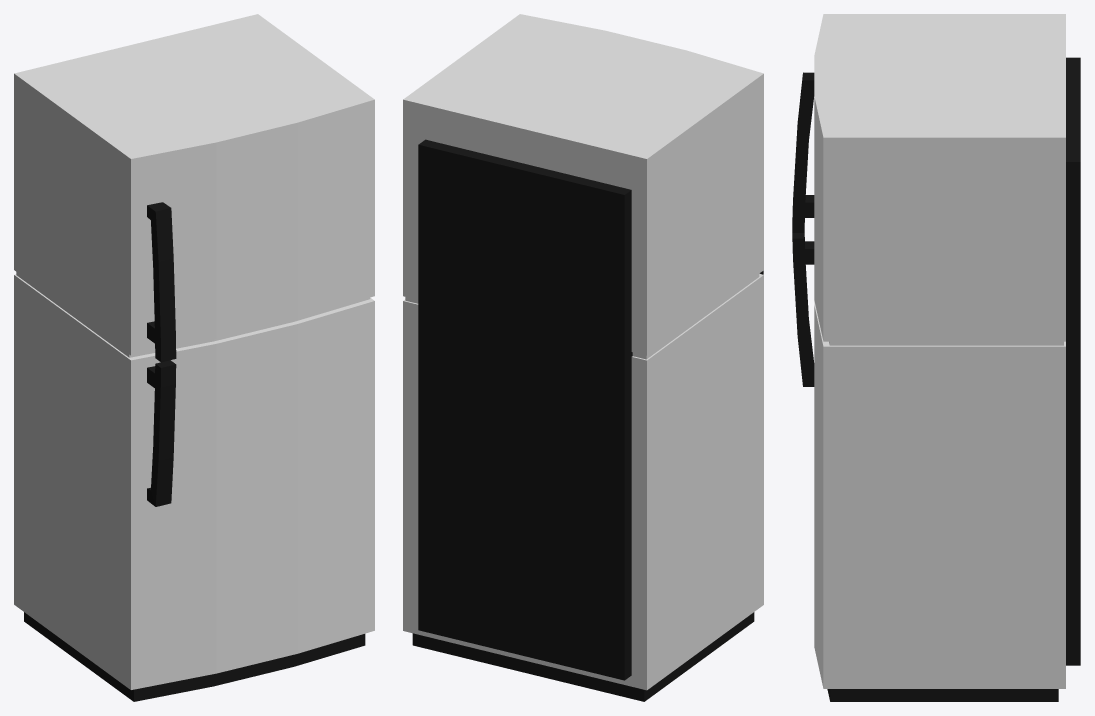
Rendered from Refrigirator.fbx.
3 views of the same model, side by side, from view 1: azimuth 30°, elevation 25°; view 2: azimuth 150°, elevation 25°; view 3: azimuth 270°, elevation 25° (orthographic). The views are drawn at different scales.
Parts seen in each view (by area): view 1: Refrigirator; view 2: Refrigirator; view 3: Refrigirator.
Boxes of the visible parts, bbox=[...] form: Refrigirator: bbox=[14, 14, 374, 701]; Refrigirator: bbox=[403, 14, 763, 701]; Refrigirator: bbox=[792, 14, 1080, 701].
Size of the model in its own units: 0.5586 by 1.2 by 0.5512.
Materials: 1 (1 with a texture image).
